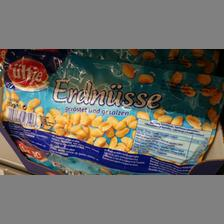Nuss: (0, 50, 224, 174)
